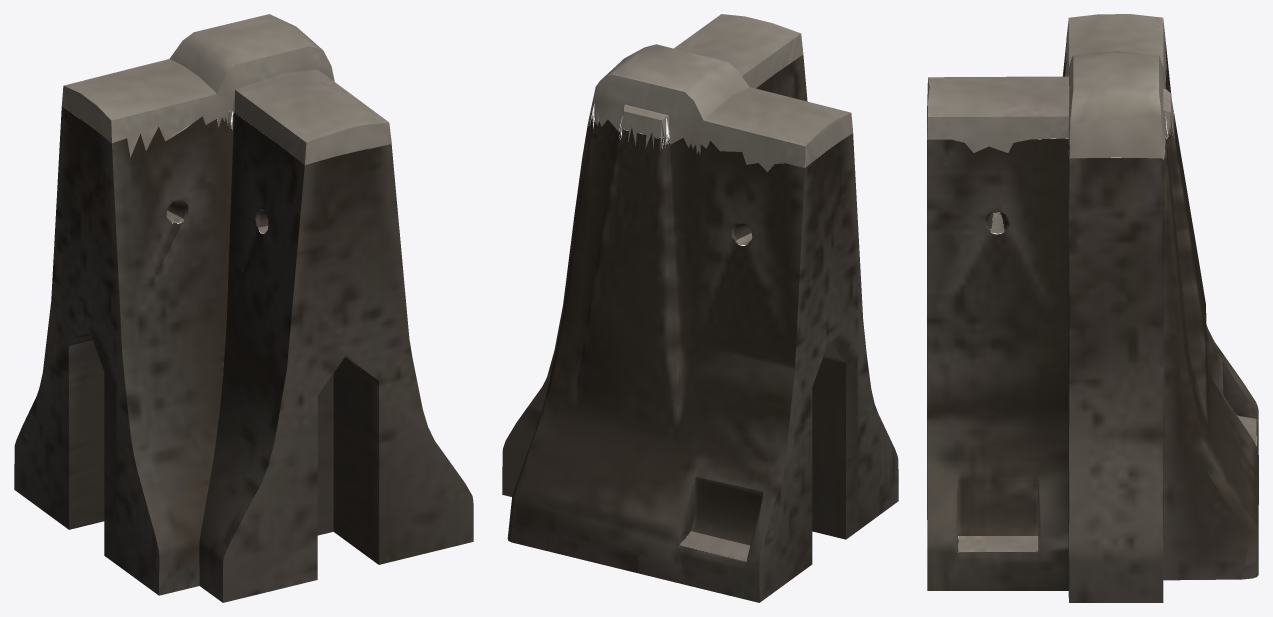
File: stone-wall-sw.glb
3 renders of one model, left to right at view 1: azimuth 30°, elevation 25°; view 2: azimuth 150°, elevation 25°; view 3: azimuth 270°, elevation 25°, orthographic. The views are drawn at different scales.
Parts seen in each view (by area): view 1: body; view 2: body; view 3: body.
Boxes of the visible parts, box(x1,y1,x2,y2) form: body: box(14, 14, 473, 602); body: box(502, 14, 898, 602); body: box(927, 14, 1258, 602).
Size of the model in its own units: 0.9379 by 1.33 by 0.8639.
1 material, 1 textured.
